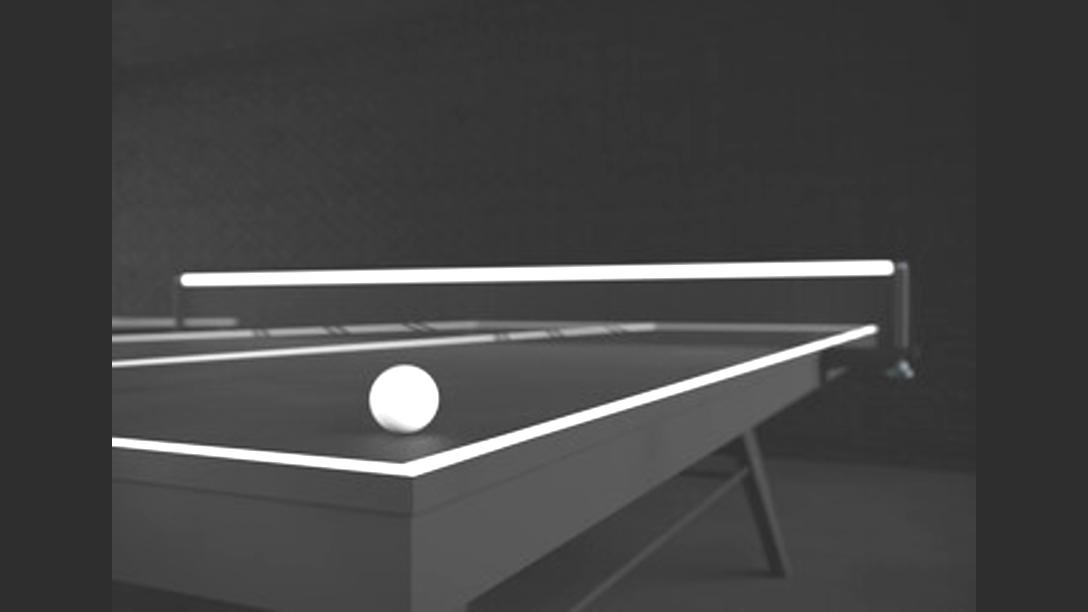Table-Tennis-Ball: (372, 364, 439, 431)
